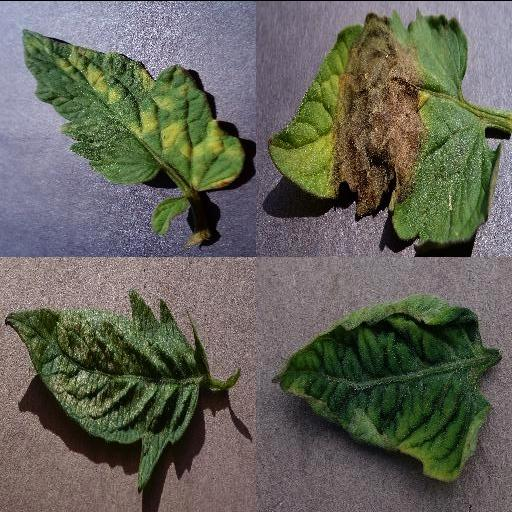Late Blight: (264, 9, 506, 249)
Leaf Mold: (21, 28, 247, 194)
Spider Mites: (5, 289, 201, 493)
Yellow Leaf Curl Virus: (271, 296, 491, 483)
